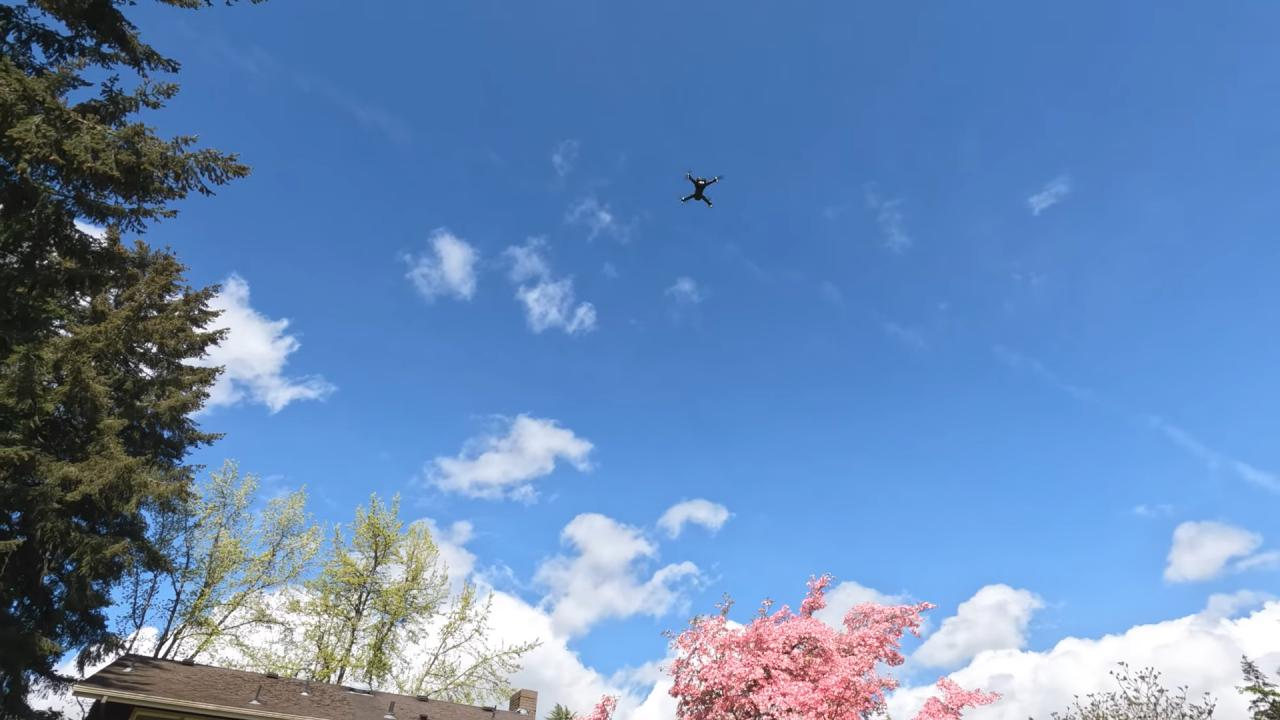Drone: (668, 157, 734, 222)
